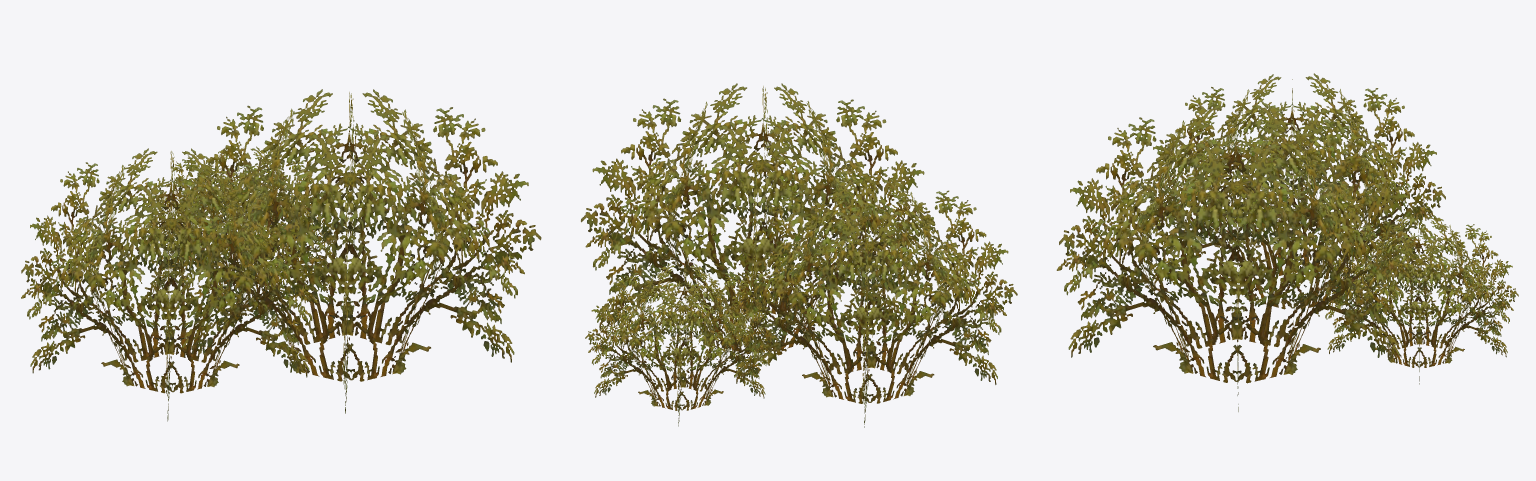
The model's file is grs_weed09_2.glb.
The picture shows the model from 3 angles, left to right: view 1: azimuth 30°, elevation 25°; view 2: azimuth 150°, elevation 25°; view 3: azimuth 270°, elevation 25°; orthographic projection. The views are drawn at different scales.
Visible parts, largest first — view 1: grs_weed09_2; view 2: grs_weed09_2; view 3: grs_weed09_2.
Boxes of the visible parts, x1,y1,x2,y2 form: grs_weed09_2: [21, 89, 541, 421]; grs_weed09_2: [581, 83, 1017, 427]; grs_weed09_2: [1056, 73, 1518, 411].
Bounding box in the file's own units: 15.43 × 7.96 × 12.98.
1 material, 1 textured.
